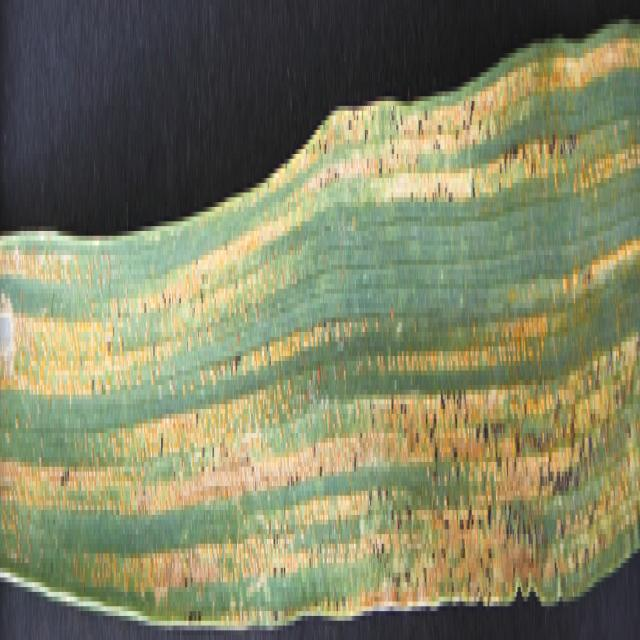leaf rust: (1, 67, 640, 597)
